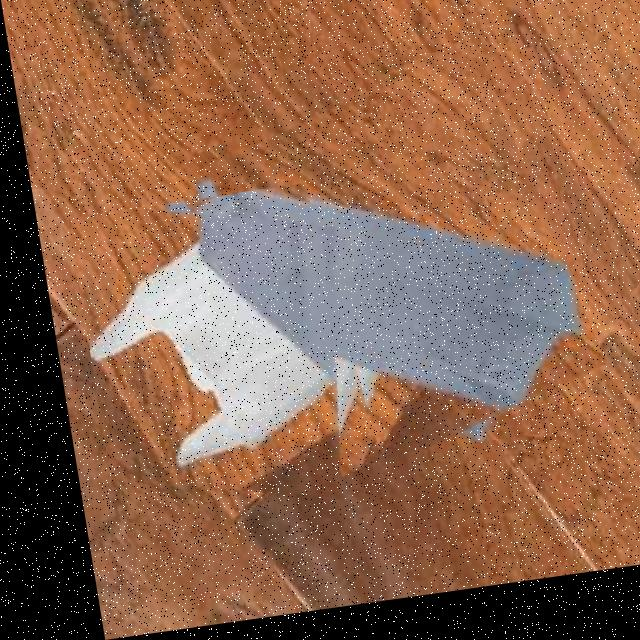plasticcover: (204, 61, 580, 477), (59, 188, 368, 519)
